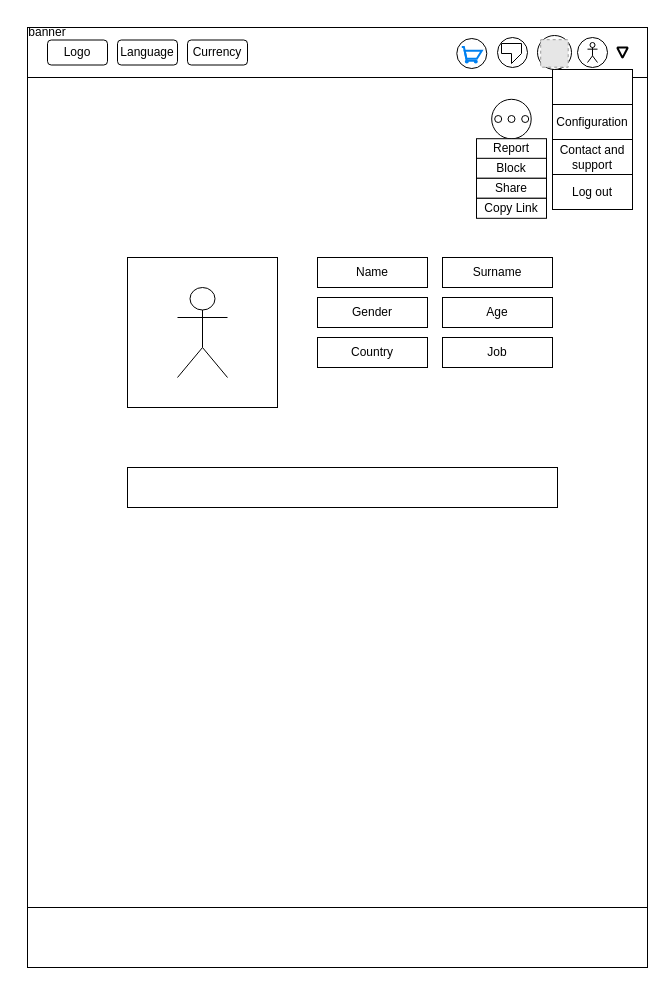
The diagram is 665 pixels wide and 985 high, and some of its shapes have lost their labels. Grey dashed boxes stand in for pictures. The shapes that lost their labels are listed below. From the top down, each one's box as (x1, y1, x2, y2) in pixels, then its label:
(552, 68, 632, 104): My Profile
(126, 466, 558, 508): Description
(26, 906, 648, 968): footpage
